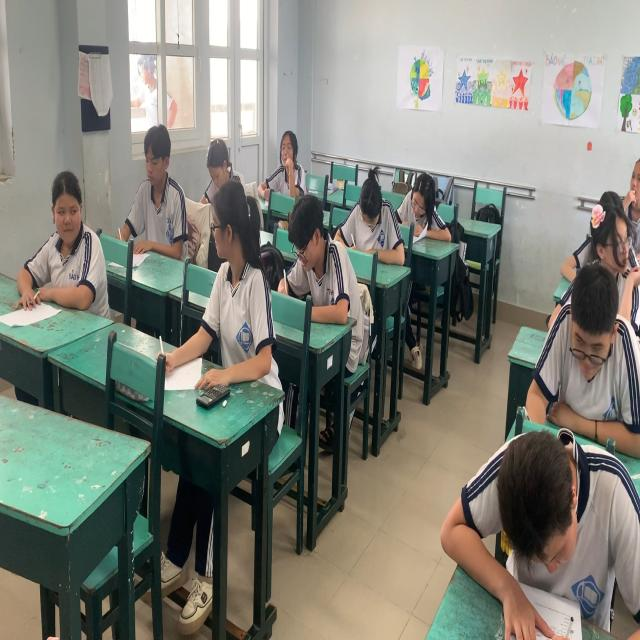cheating: (200, 196, 264, 374), (38, 150, 104, 309)
not_cheating: (469, 399, 608, 623), (547, 270, 629, 412), (271, 188, 345, 330), (127, 116, 187, 256), (347, 157, 401, 261), (574, 185, 634, 268), (404, 167, 438, 243), (267, 129, 306, 189), (201, 126, 234, 194)
